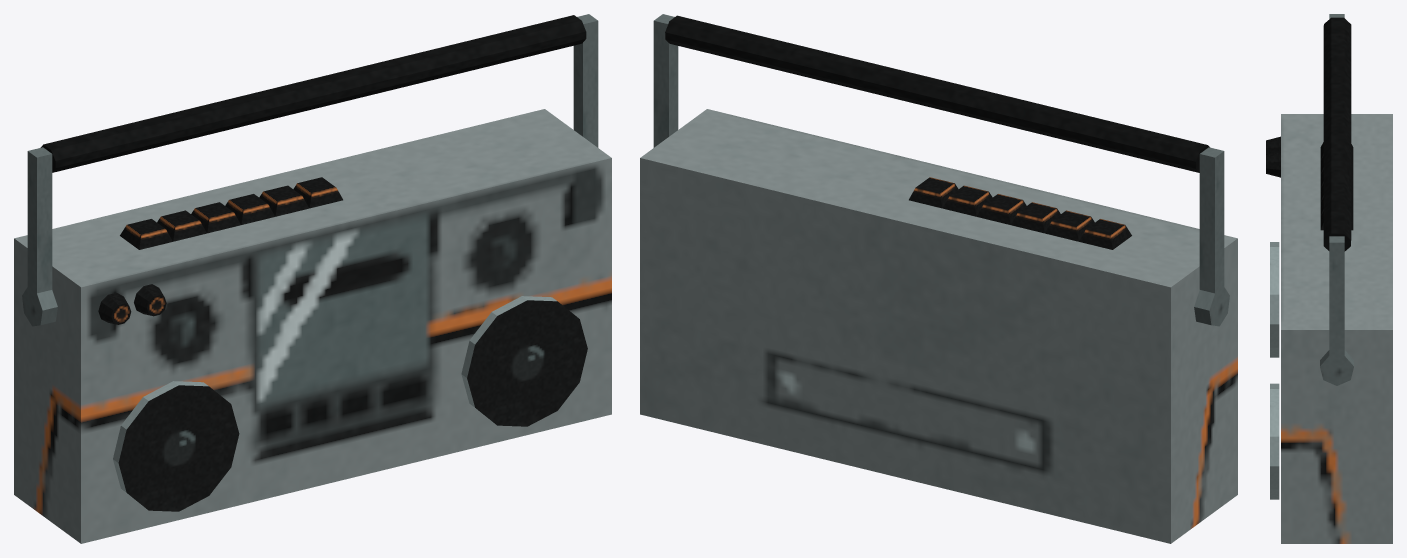
Rendered from radio.fbx.
The picture shows the model from 3 angles, left to right: view 1: azimuth 30°, elevation 25°; view 2: azimuth 150°, elevation 25°; view 3: azimuth 270°, elevation 25°; orthographic projection. The views are drawn at different scales.
Parts seen in each view (by area): view 1: radio_body, handle_grip, speaker1, speaker2, hande2, hande1, button1, button4, button5, button6, button3, button2 (+2 smaller); view 2: radio_body, handle_grip, hande2, hande1, button1, button4, button5, button6, button3, button2; view 3: radio_body, handle_grip, hande1, speaker2, speaker1, knob1, knob.
Boxes of the visible parts, <box> form: radio_body: <box>14,109,611,543</box>; handle_grip: <box>40,15,586,172</box>; speaker1: <box>113,381,239,511</box>; speaker2: <box>461,296,587,426</box>; hande2: <box>22,147,57,326</box>; hande1: <box>573,14,598,147</box>; button1: <box>120,219,172,249</box>; button4: <box>225,194,274,224</box>; button5: <box>259,185,309,216</box>; button6: <box>293,177,342,208</box>; button3: <box>191,202,240,233</box>; button2: <box>157,210,206,241</box>; radio_body: <box>640,109,1237,543</box>; handle_grip: <box>665,15,1209,172</box>; hande2: <box>1194,147,1229,326</box>; hande1: <box>653,14,678,147</box>; button1: <box>1079,219,1131,249</box>; button4: <box>977,194,1026,224</box>; button5: <box>942,185,992,216</box>; button6: <box>909,177,958,208</box>; button3: <box>1011,202,1060,233</box>; button2: <box>1045,210,1094,241</box>; radio_body: <box>1281,114,1392,543</box>; handle_grip: <box>1323,17,1351,251</box>; hande1: <box>1320,236,1353,385</box>; speaker2: <box>1270,383,1279,499</box>; speaker1: <box>1270,242,1279,357</box>; knob1: <box>1266,151,1280,177</box>; knob: <box>1266,136,1280,154</box>.
Size of the model in its own units: 45.1 by 28.55 by 10.58.
1 material, 1 textured.
